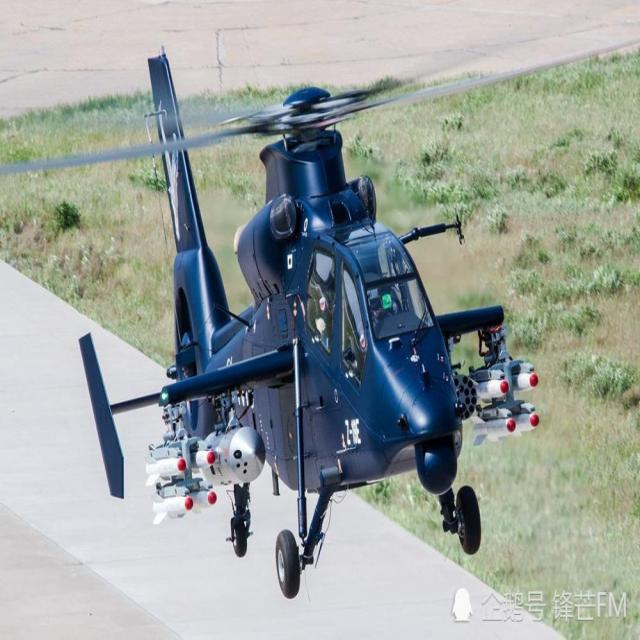MIL_HELO: (9, 0, 640, 598)
